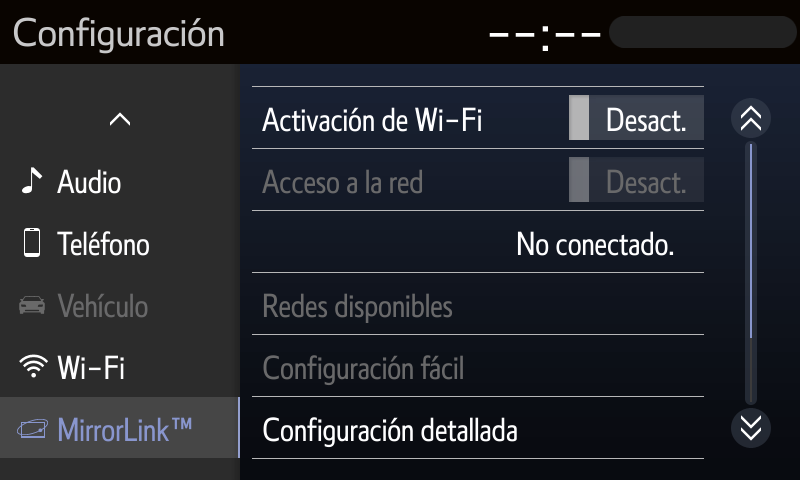touchPart: (254, 392, 708, 463), (254, 83, 710, 153), (10, 14, 224, 55), (18, 221, 154, 262), (17, 347, 130, 387), (21, 161, 125, 202), (725, 405, 778, 451), (730, 98, 773, 137), (104, 109, 136, 133)
untouchPart: (252, 330, 707, 402), (254, 146, 710, 215), (252, 269, 705, 338), (1, 394, 241, 461), (471, 14, 798, 54), (17, 292, 162, 323)
